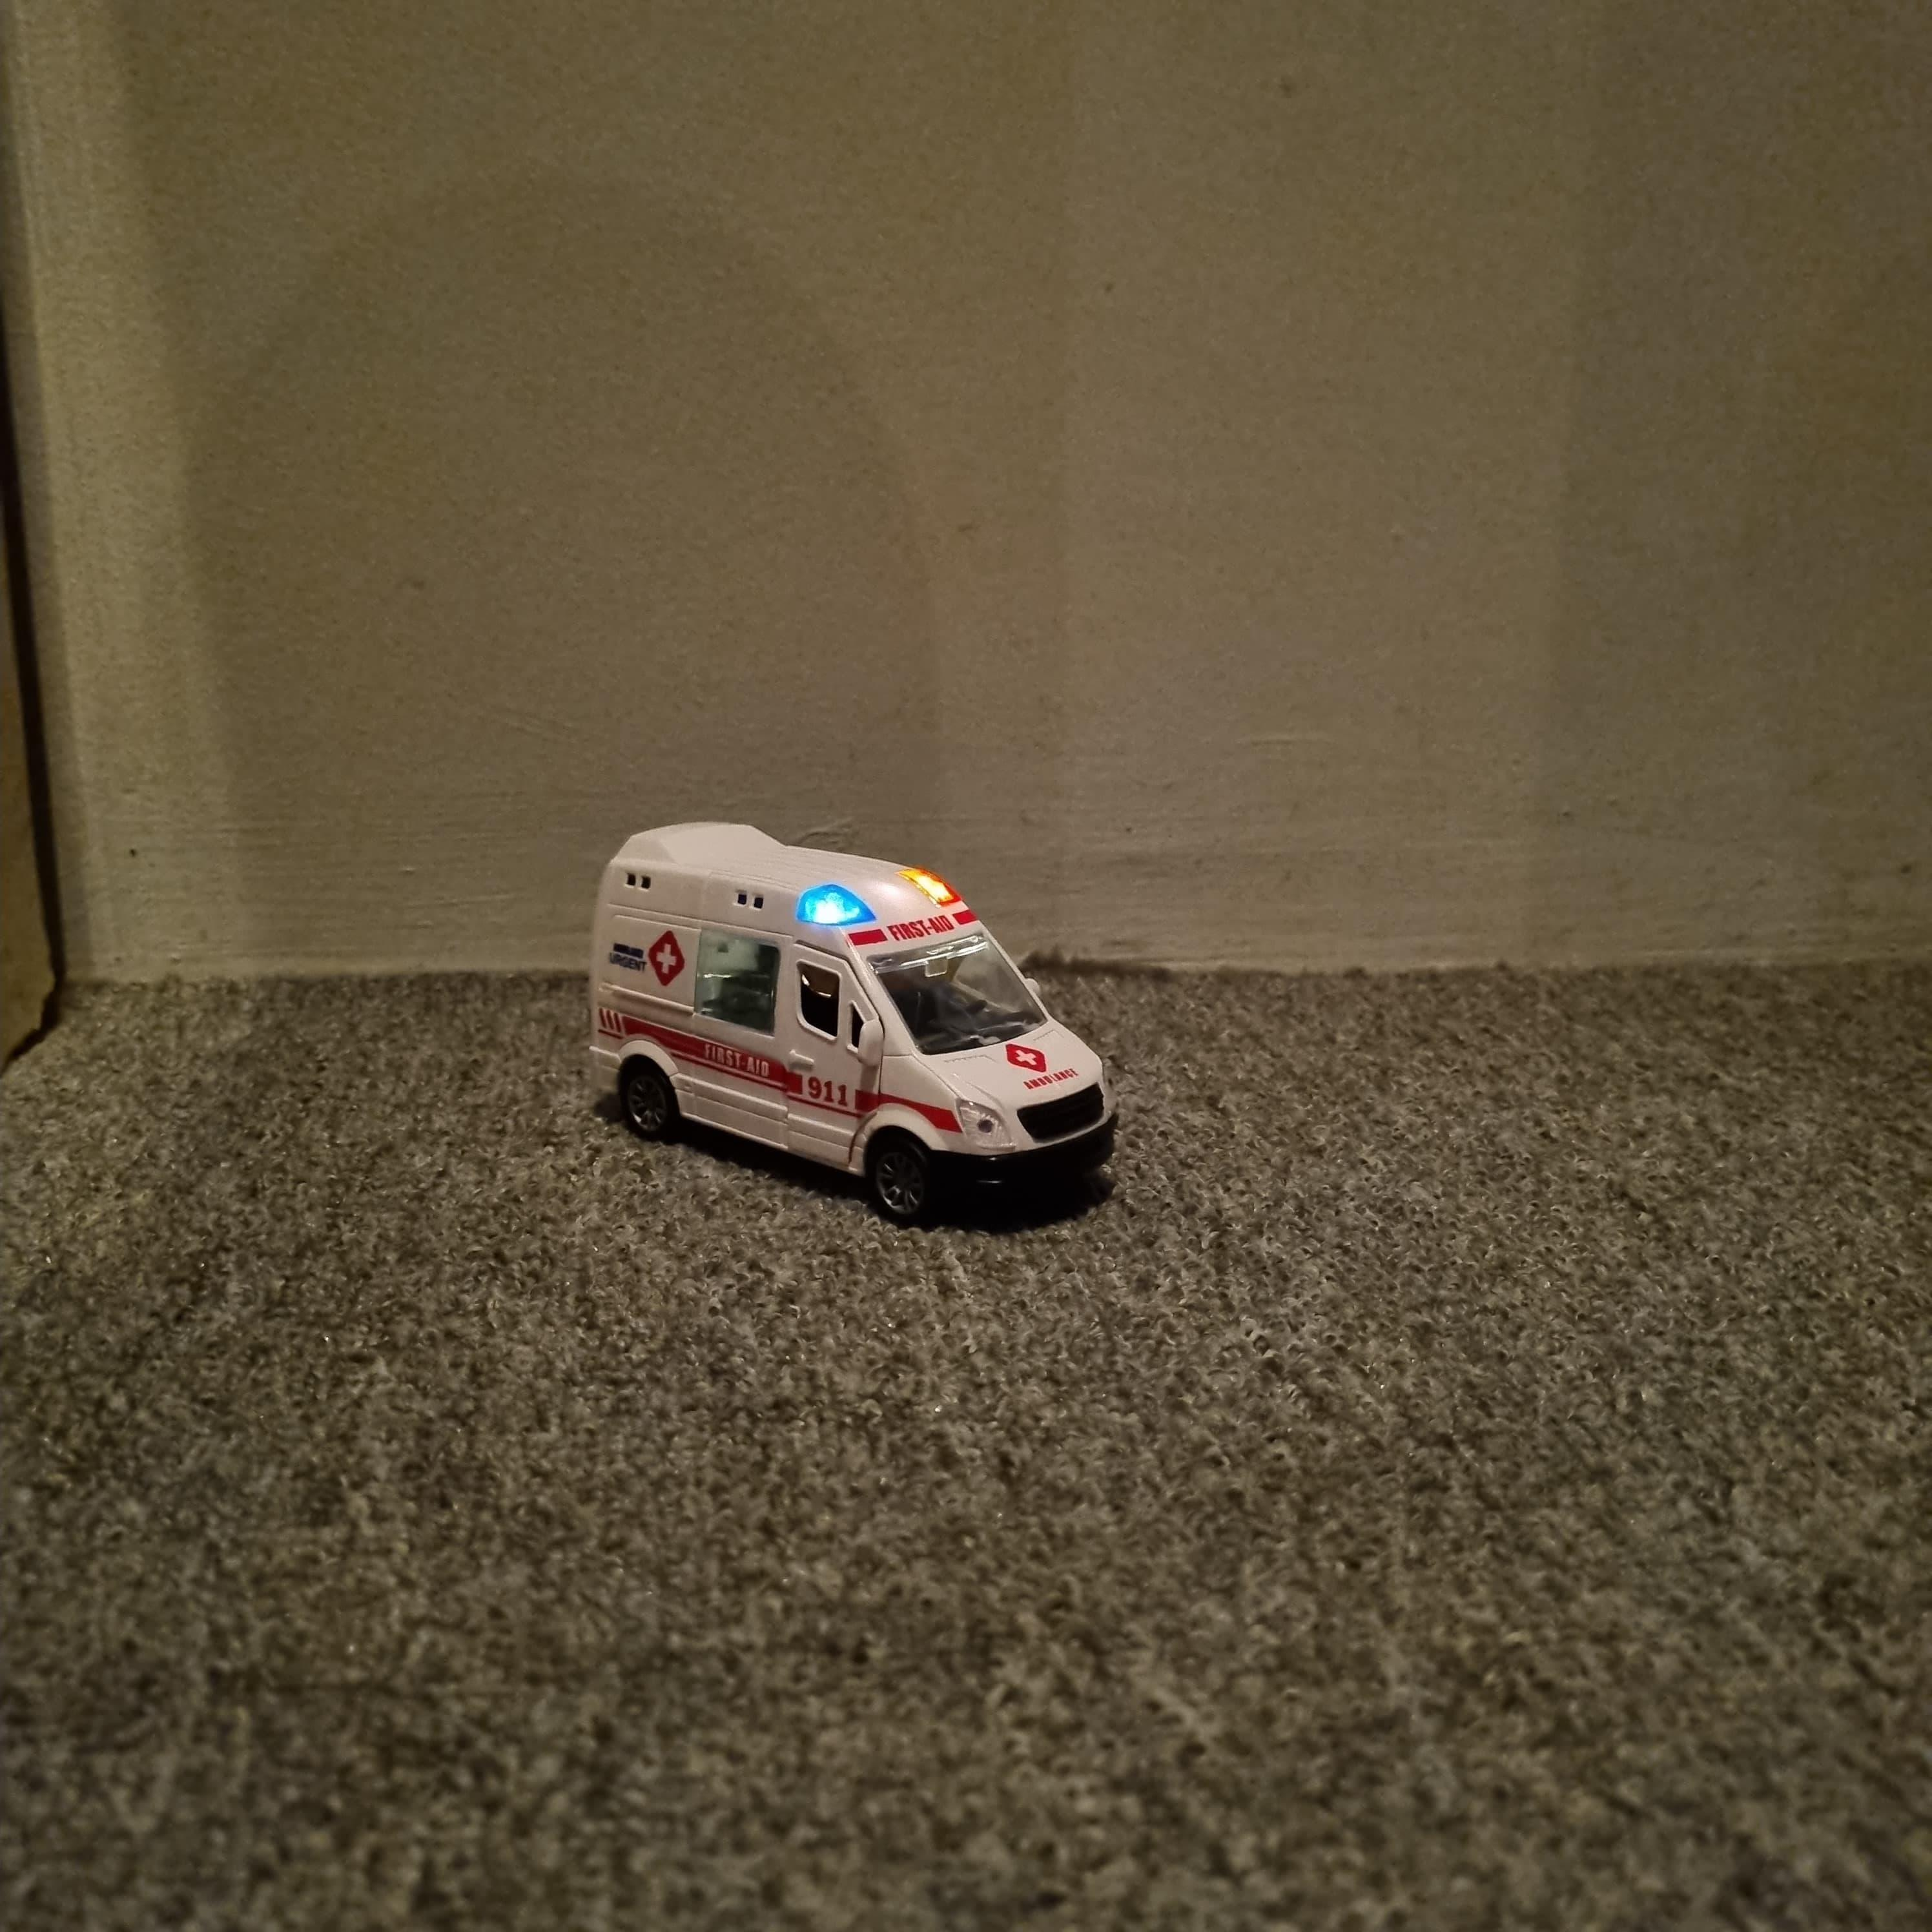ambulance_on: (587, 824, 1116, 1221)
